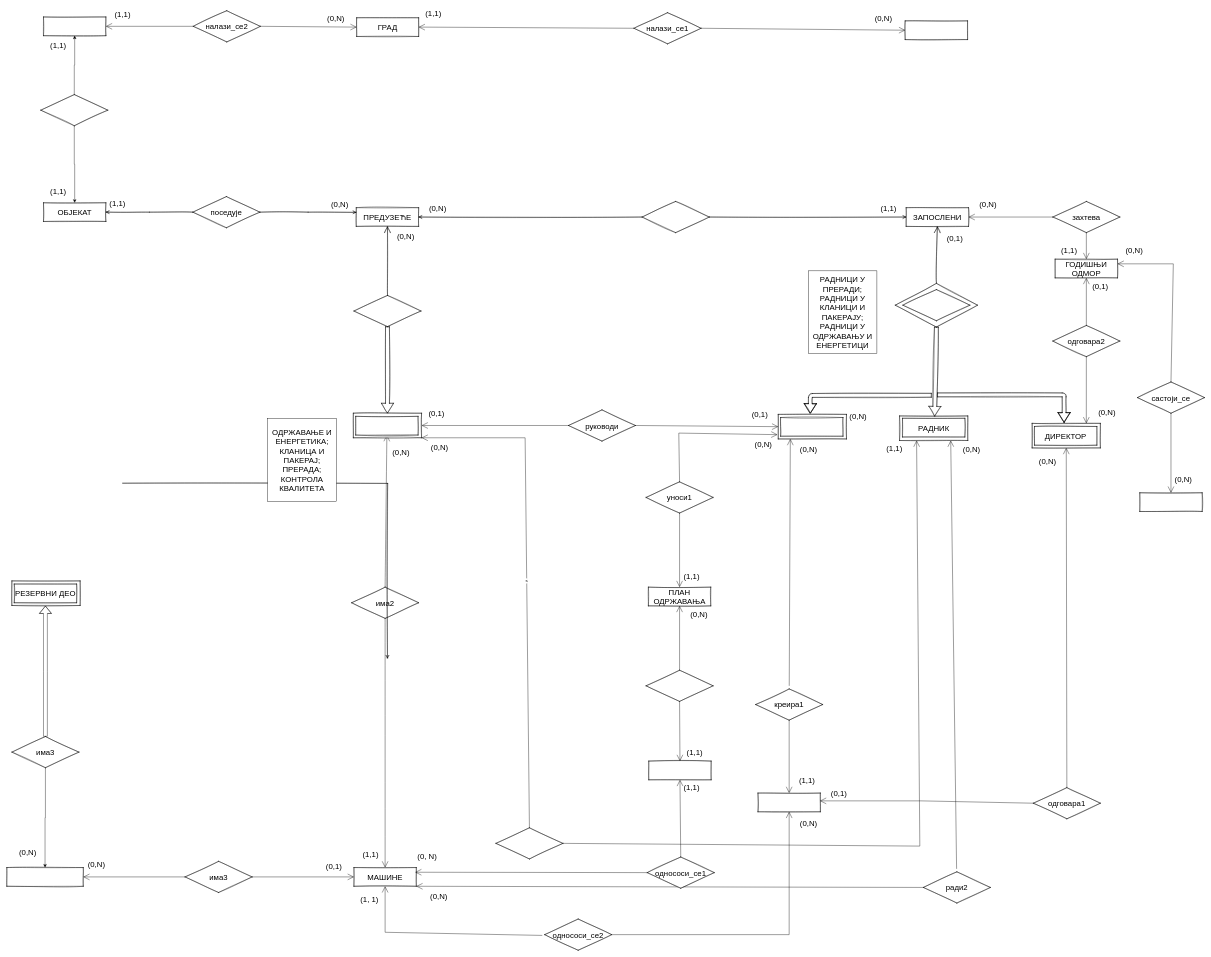
Image size: 1211x957. Some labels were removed from this diagram. The box of each missing label's shape, as (x1, y1, x2, y2) in pixels:
AДРЕСА: (43, 17, 106, 36)
IS-A: (902, 289, 970, 321)
ДОКУМЕНТАЦИЈА: (6, 867, 83, 886)
ДРЖАВА: (905, 20, 968, 40)
запослен: (642, 201, 709, 233)
има1: (354, 295, 421, 327)
НАБАВКА: (758, 793, 820, 812)
налази_се3: (40, 94, 108, 126)
ради1: (495, 827, 563, 859)
РАДНА ЈЕДИНИЦА: (355, 416, 418, 435)
РУКОВОДИОЦИ: (780, 417, 843, 436)
садржи: (646, 670, 713, 701)
СЛОВОДАН ДАН: (1139, 492, 1202, 511)
СТАКА ПЛАНА: (648, 761, 711, 780)
